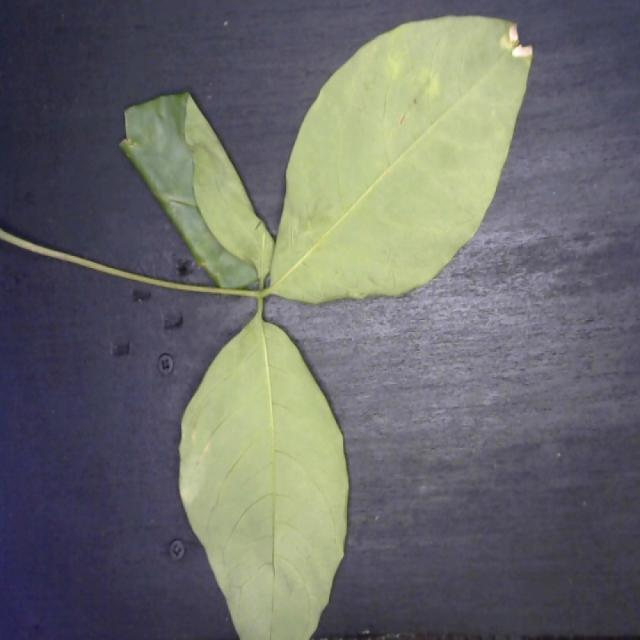biodegradable: (0, 16, 536, 640)
